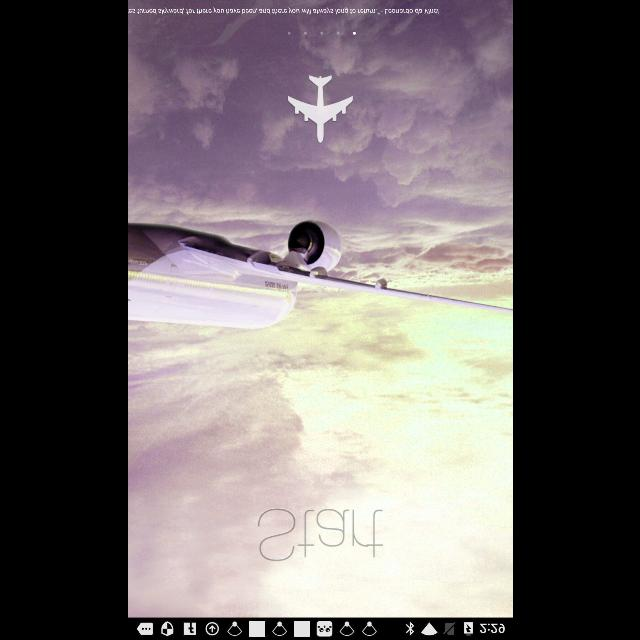backgroundimage: (128, 0, 512, 618)
image: (286, 74, 352, 144)
pageindicator: (286, 31, 356, 35)
text: (255, 508, 382, 562), (127, 8, 439, 16)
uppertaskbar: (128, 617, 512, 639)
